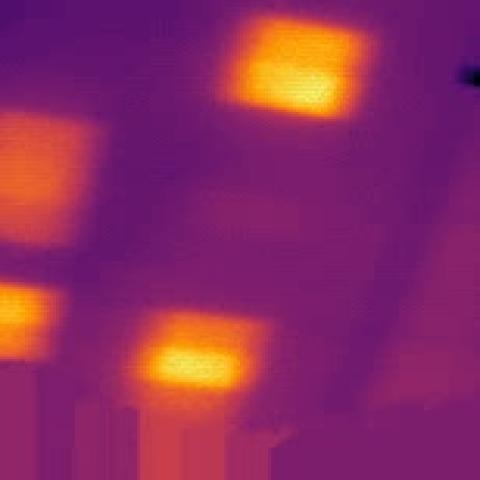fault: (209, 11, 378, 129), (120, 304, 281, 400), (0, 100, 97, 256), (0, 275, 69, 373)
